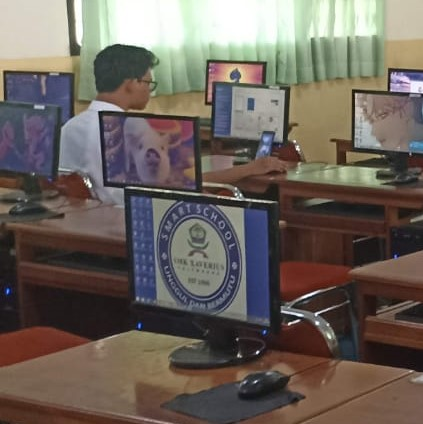monitor: (123, 187, 282, 367), (98, 111, 203, 193), (210, 81, 290, 150), (0, 101, 62, 184), (350, 89, 421, 159), (2, 70, 75, 126), (205, 59, 267, 106), (232, 130, 276, 166), (387, 68, 423, 94), (254, 131, 275, 160)
